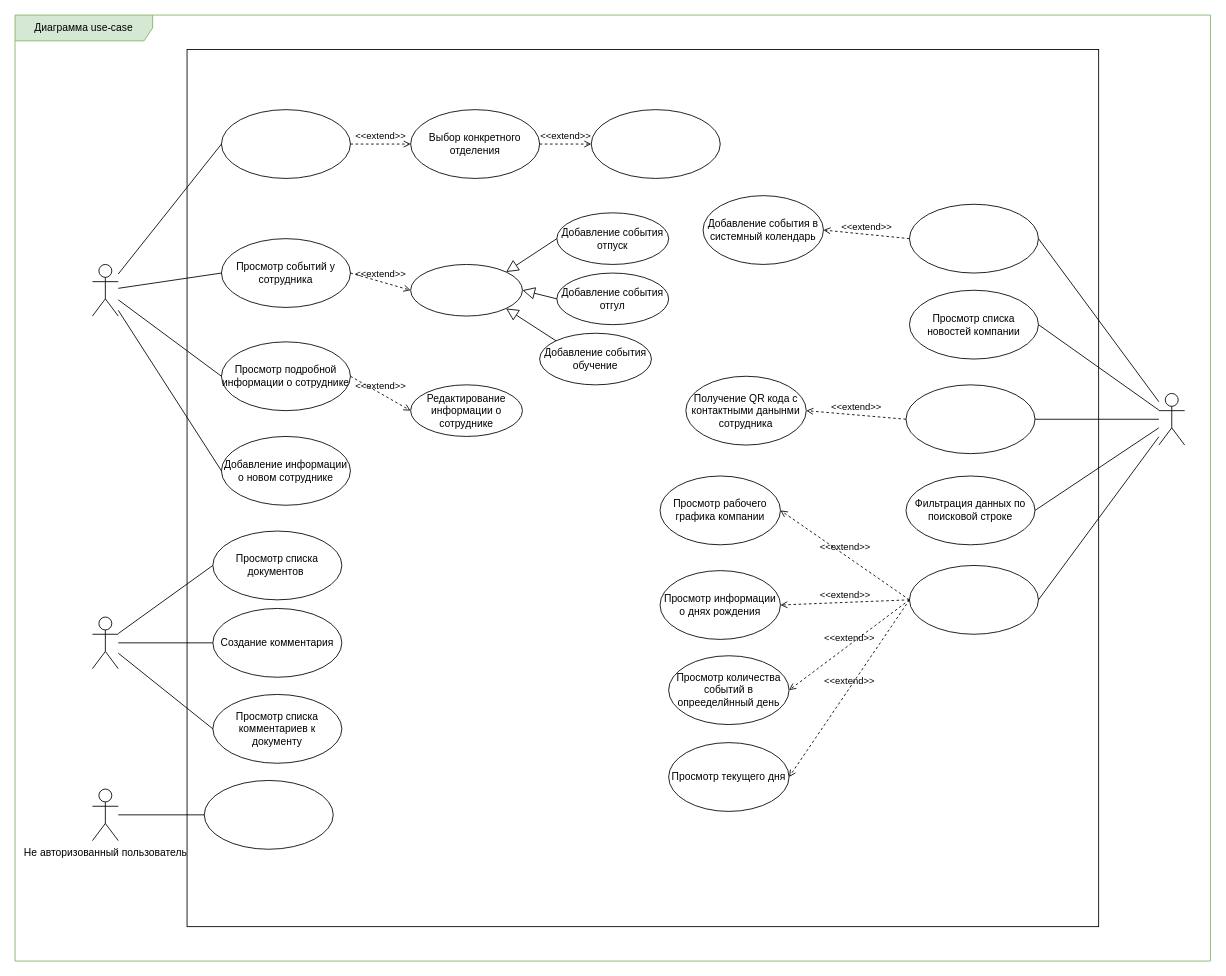
Image size: 1226x976. Some labels were removed from this diagram. Each missing label, with the box of its shape:
Авторизация: (203, 780, 333, 849)
Авторизованный пользователь: (92, 616, 118, 669)
Добавление событий: (410, 264, 522, 316)
Посетитель: (1158, 393, 1185, 445)
Просмотр календаря событий: (909, 565, 1038, 634)
Просмотр общей информации о сотрудниках выбранного отделения: (590, 109, 720, 178)
Просмотр организационной структуры компании: (221, 109, 350, 178)
Просмотр списка событий компании: (909, 203, 1038, 273)
Просмотр списка сотрудников компании: (905, 384, 1035, 454)
Сотрудник отдела кадров: (92, 264, 118, 316)
